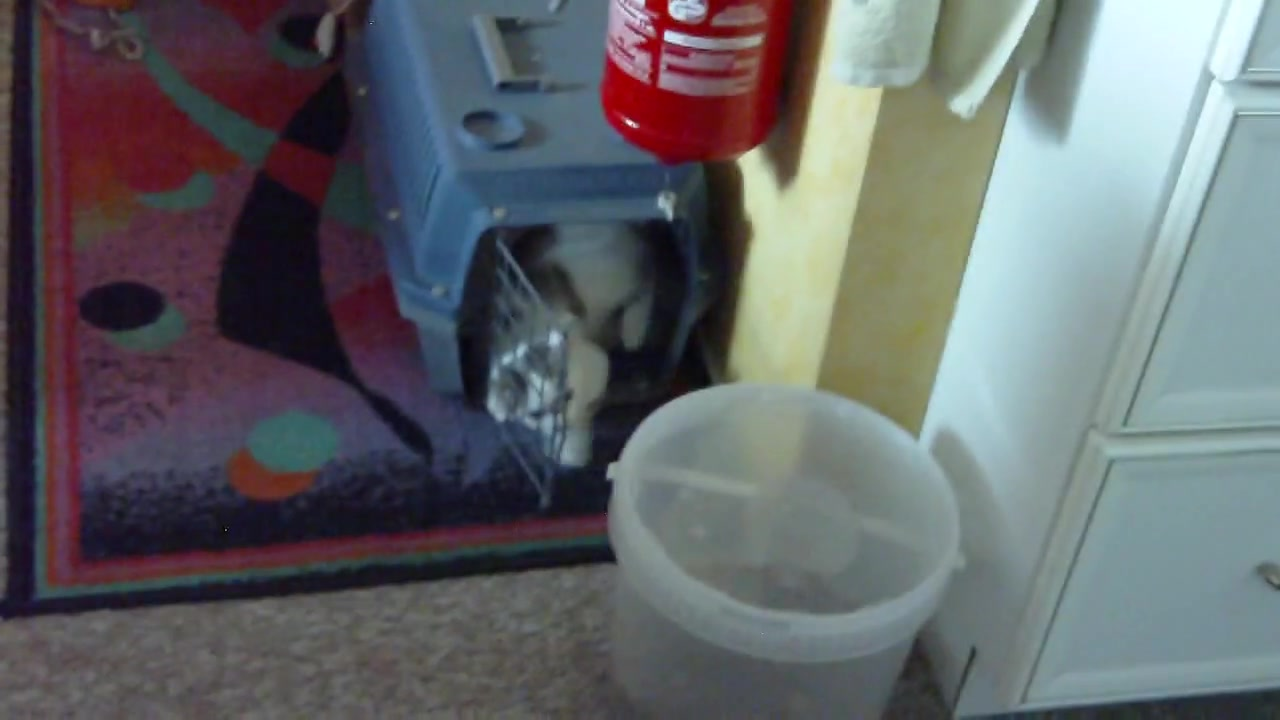cat: (487, 218, 664, 474)
